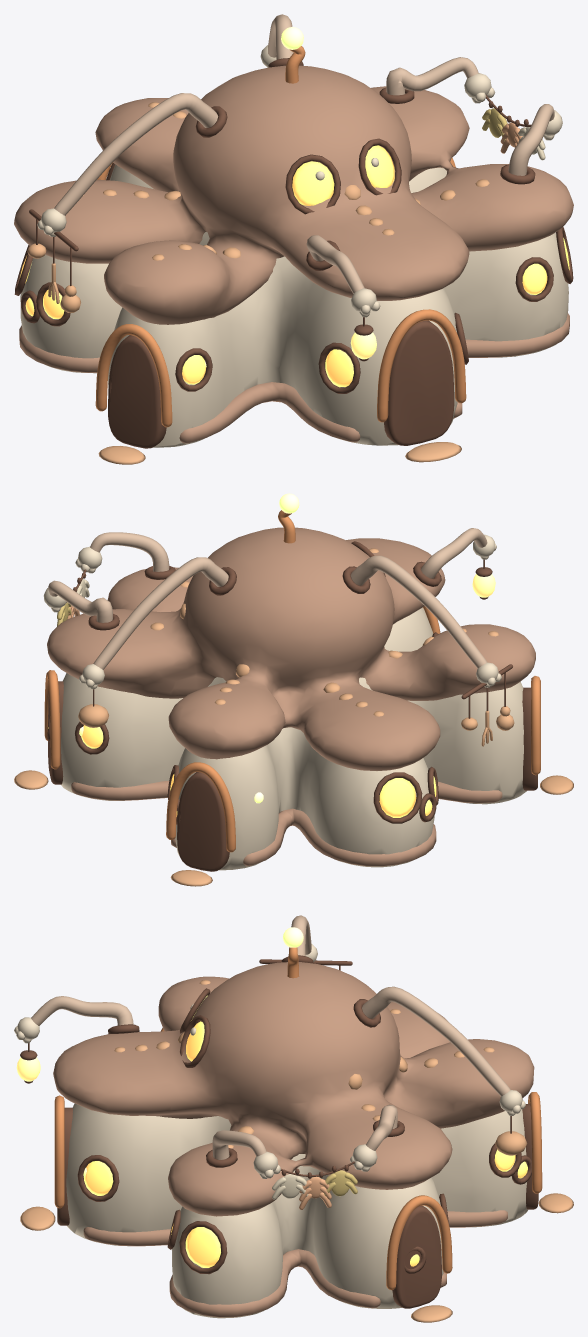
Rendered from house_06_0608.fbx.
3 views of the same model, one above another, from view 1: azimuth 30°, elevation 25°; view 2: azimuth 150°, elevation 25°; view 3: azimuth 270°, elevation 25° (orthographic). The views are drawn at different scales.
Parts seen in each view (by area): view 1: Tawan_RoofMantle, Tawan_Body, Tawan_Door_Main, Tawan_WindowRims, Tawan_BaseCushion, Tawan_Windows, Tawan_Door_FrontLeft, Tawan_Arm_ToolsL, Tawan_DoorRim_Main, Tawan_DoorRim_FrontLeft, Tawan_ArmHands, Tawan_Arm_ClothesB (+8 smaller); view 2: Tawan_RoofMantle, Tawan_Body, Tawan_BaseCushion, Tawan_Door_Back, Tawan_Arm_ToolsL, Tawan_Arm_ToolsBack, Tawan_WindowRims, Tawan_ArmHands, Tawan_DoorRim_Back, Tawan_Windows, Tawan_Arm_ClothesA, Tawan_Tools (+10 smaller); view 3: Tawan_RoofMantle, Tawan_Body, Tawan_BaseCushion, Tawan_WindowRims, Tawan_Door_BackRight, Tawan_Windows, Tawan_Arm_ToolsBack, Tawan_ArmHands, Tawan_DoorRim_BackRight, Tawan_Arm_Lantern, Tawan_DoorRim_Main, Tawan_RoofDots (+12 smaller).
Boxes of the visible parts, left/top/right/bottom form: Tawan_RoofMantle: left=14, top=65, right=573, bottom=324; Tawan_Body: left=20, top=164, right=568, bottom=447; Tawan_Door_Main: left=384, top=320, right=454, bottom=445; Tawan_WindowRims: left=14, top=138, right=573, bottom=393; Tawan_BaseCushion: left=19, top=313, right=569, bottom=443; Tawan_Windows: left=20, top=145, right=569, bottom=387; Tawan_Door_FrontLeft: left=108, top=335, right=166, bottom=448; Tawan_Arm_ToolsL: left=54, top=93, right=218, bottom=215; Tawan_DoorRim_Main: left=377, top=309, right=466, bottom=422; Tawan_DoorRim_FrontLeft: left=95, top=324, right=172, bottom=427; Tawan_ArmHands: left=37, top=45, right=562, bottom=317; Tawan_Arm_ClothesB: left=386, top=57, right=478, bottom=95; Tawan_RoofMantle: left=47, top=527, right=535, bottom=770; Tawan_Body: left=61, top=607, right=526, bottom=870; Tawan_BaseCushion: left=71, top=780, right=502, bottom=866; Tawan_Door_Back: left=177, top=772, right=229, bottom=871; Tawan_Arm_ToolsL: left=350, top=555, right=487, bottom=668; Tawan_Arm_ToolsBack: left=93, top=557, right=228, bottom=669; Tawan_WindowRims: left=47, top=541, right=438, bottom=824; Tawan_ArmHands: left=43, top=534, right=501, bottom=689; Tawan_DoorRim_Back: left=166, top=762, right=235, bottom=852; Tawan_Windows: left=48, top=725, right=436, bottom=817; Tawan_Arm_ClothesA: left=90, top=532, right=169, bottom=571; Tawan_Tools: left=78, top=704, right=514, bottom=746; Tawan_RoofMantle: left=53, top=962, right=534, bottom=1216; Tawan_Body: left=66, top=1103, right=527, bottom=1318; Tawan_BaseCushion: left=83, top=1210, right=507, bottom=1317; Tawan_WindowRims: left=77, top=988, right=531, bottom=1274; Tawan_Door_BackRight: left=392, top=1205, right=441, bottom=1308; Tawan_Windows: left=83, top=995, right=527, bottom=1267; Tawan_Arm_ToolsBack: left=362, top=986, right=510, bottom=1096; Tawan_ArmHands: left=14, top=943, right=525, bottom=1178; Tawan_DoorRim_BackRight: left=386, top=1195, right=452, bottom=1290; Tawan_Arm_Lantern: left=31, top=996, right=133, bottom=1025; Tawan_DoorRim_Main: left=54, top=1095, right=64, bottom=1208; Tawan_RoofDots: left=114, top=980, right=494, bottom=1148.
Size of the model in its own units: 6.61 by 3.98 by 6.95.
